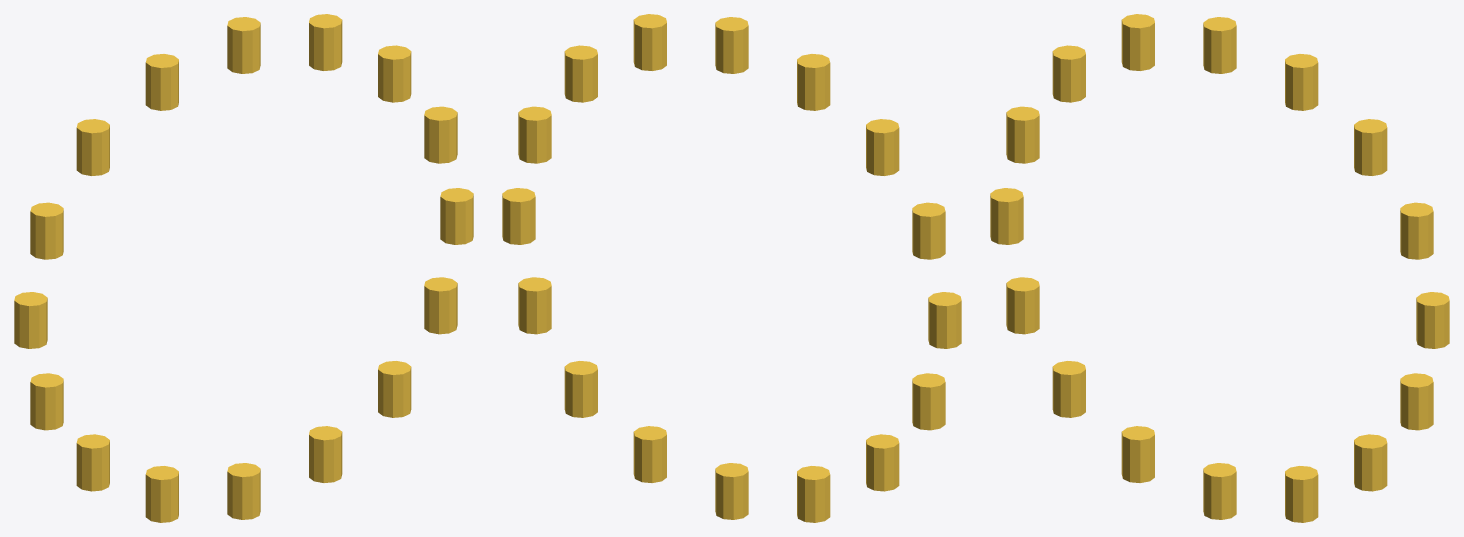
File: Plane_Ring.fbx
3 views of the same model, side by side, from view 1: azimuth 30°, elevation 25°; view 2: azimuth 150°, elevation 25°; view 3: azimuth 330°, elevation 25° (orthographic).
Visible parts, largest first — view 1: Ring; view 2: Ring; view 3: Ring.
Part boxes in pixels (left/top/right/bottom): Ring: left=14, top=14, right=473, bottom=522; Ring: left=502, top=14, right=961, bottom=522; Ring: left=990, top=14, right=1449, bottom=522.
Size of the model in its own units: 5.54 by 5.7 by 0.36.
